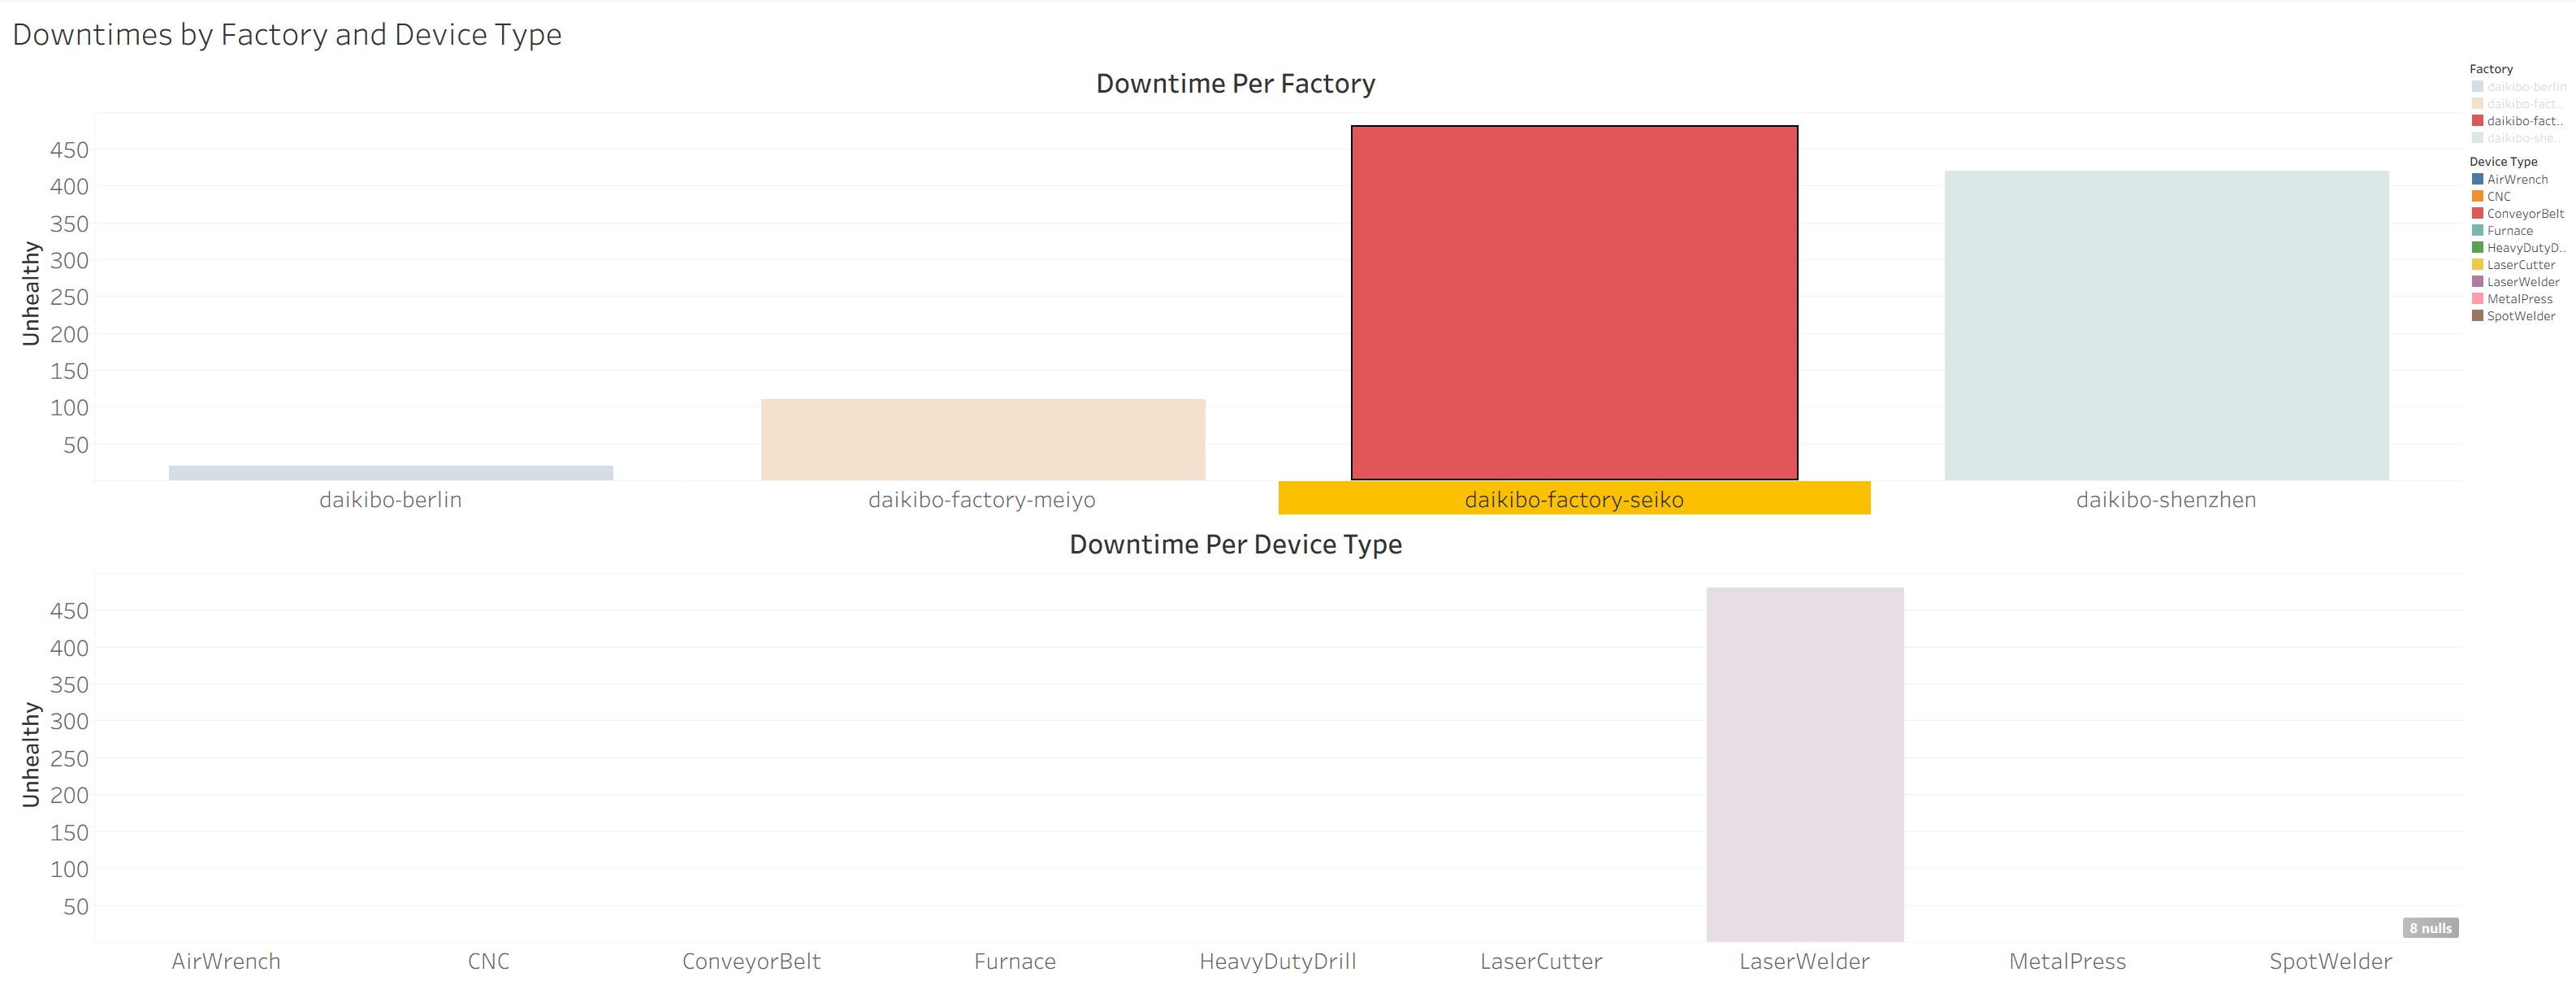

This screenshot's page, from the dashboard's own definition file:
{"tool":"tableau","page":{"name":"Downtimes by Factory and Device Type","canvas":[1000,1000],"units":"permille","ordinal":0},"visuals":[{"type":"title","box":[2.5,6.6,995,49.6]},{"type":"worksheet","title":"Downtime Per Factory","mark":"Automatic","rows":["Calculation_0202910549000192"],"cols":["factory"],"box":[2.5,56.2,953.4,468.6]},{"type":"legend","title":"Downtime Per Factory","param":"[federated.17pgsgc0guqwsr1h2nko11yj18ww].[none:factory:nk]","box":[955.9,56.2,41.6,94.1]},{"type":"legend","title":"Downtime Per Device Type","param":"[federated.17pgsgc0guqwsr1h2nko11yj18ww].[none:deviceType:nk]","box":[955.9,150.3,41.6,180.8]},{"type":"worksheet","title":"Downtime Per Device Type","mark":"Automatic","rows":["Calculation_0202910549000192"],"cols":["deviceType"],"box":[2.5,524.8,953.4,468.6]}]}

Visuals, with their boxes on the dashboard's canvas, which has no fixed pixel size, in thousandths of its width and height (x1, y1, x2, y2). These are canvas units, not pixel positions in the 2576x981 screenshot, which may show the page scaled, cropped or inside an application window:
title: pyautogui.locateOnScreen(2, 7, 998, 56)
"Downtime Per Factory" worksheet: pyautogui.locateOnScreen(2, 56, 956, 525)
"Downtime Per Factory" legend: pyautogui.locateOnScreen(956, 56, 998, 150)
"Downtime Per Device Type" legend: pyautogui.locateOnScreen(956, 150, 998, 331)
"Downtime Per Device Type" worksheet: pyautogui.locateOnScreen(2, 525, 956, 993)
